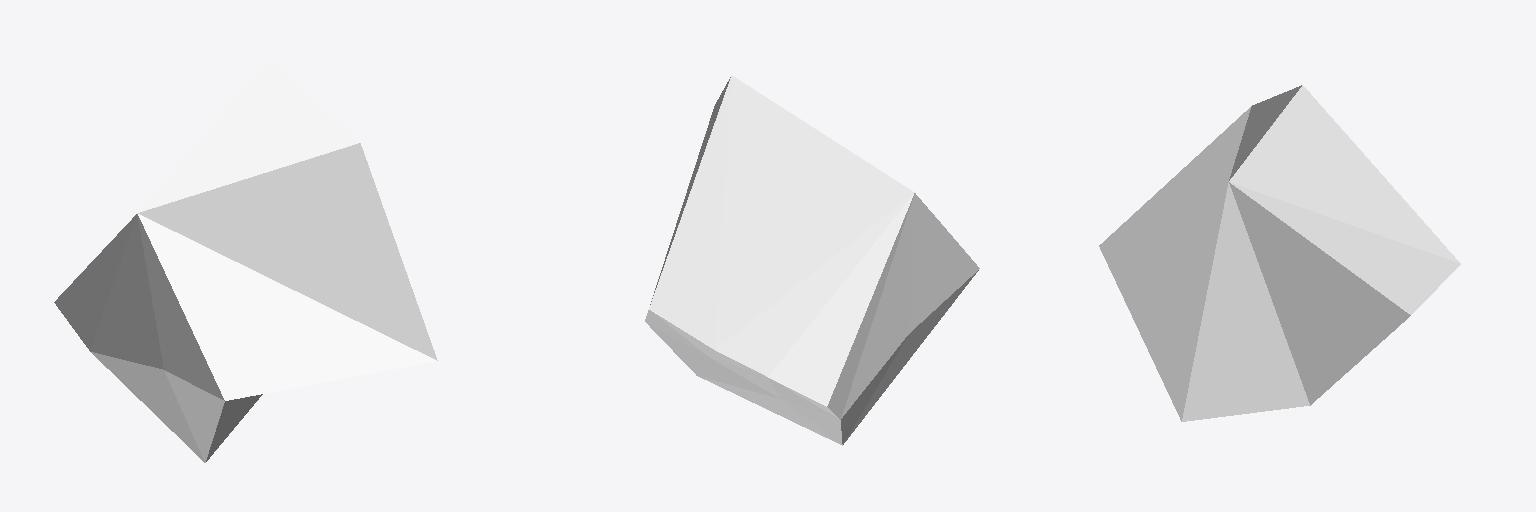
The model's file is piece6.obj.
3 renders of one model, left to right at view 1: azimuth 30°, elevation 25°; view 2: azimuth 150°, elevation 25°; view 3: azimuth 270°, elevation 25°, orthographic.
Visible parts, largest first — view 1: mesh0064; view 2: mesh0064; view 3: mesh0064.
Part boxes in pixels (x1,y1,x2,y2): mesh0064: (54, 58, 437, 462); mesh0064: (645, 75, 979, 445); mesh0064: (1099, 85, 1460, 421).
Bounding box in the file's own units: 1.09 × 1.43 × 1.28.